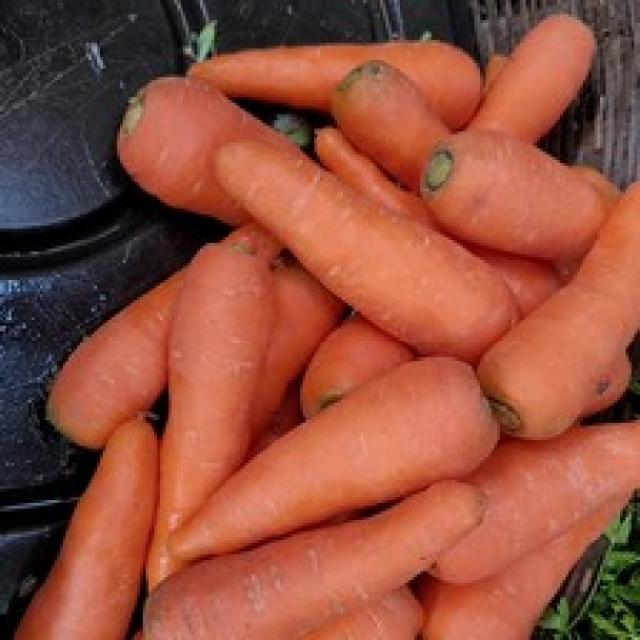Fresh_Carrot: (209, 144, 529, 365), (173, 370, 510, 557), (142, 481, 507, 640), (152, 239, 275, 588)
